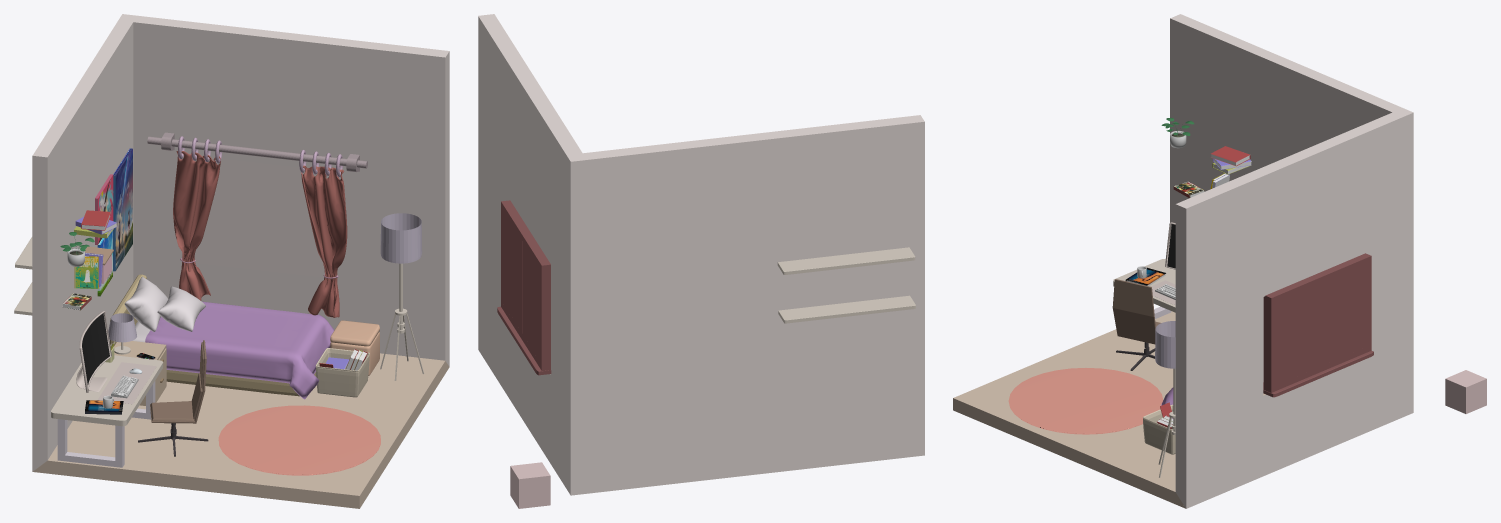
Rendered from room.glb.
3 renders of one model, left to right at view 1: azimuth 30°, elevation 25°; view 2: azimuth 150°, elevation 25°; view 3: azimuth 270°, elevation 25°, orthographic. The views are drawn at different scales.
Visible parts, largest first — view 1: Wall, Bed, Fake _wall, Carpet, Blinds, desk, Poster3, lamp1, Chair, Computer, Box1, Box2 (+12 smaller); view 2: Wall, Frame, Fake Frame, Shelf1, Shelf2, Cube; view 3: Wall, Carpet, Fake Frame, Frame, Chair, Cube, lamp1, Box1, desk.
Boxes of the visible parts, bbox=[...] form: Wall: bbox=[32, 14, 449, 508]; Bed: bbox=[110, 274, 334, 399]; Fake _wall: bbox=[182, 156, 329, 277]; Carpet: bbox=[218, 405, 380, 475]; Blinds: bbox=[173, 151, 347, 317]; desk: bbox=[51, 355, 163, 467]; Poster3: bbox=[113, 148, 132, 271]; lamp1: bbox=[380, 213, 422, 263]; Chair: bbox=[138, 340, 208, 456]; Computer: bbox=[76, 311, 111, 392]; Box1: bbox=[315, 348, 369, 397]; Box2: bbox=[330, 320, 379, 375]; Wall: bbox=[478, 14, 924, 495]; Frame: bbox=[497, 200, 551, 375]; Fake Frame: bbox=[503, 211, 539, 359]; Shelf1: bbox=[778, 295, 915, 323]; Shelf2: bbox=[777, 247, 915, 274]; Cube: bbox=[510, 462, 550, 508]; Wall: bbox=[953, 14, 1413, 508]; Carpet: bbox=[1008, 368, 1163, 434]; Fake Frame: bbox=[1277, 264, 1365, 384]; Frame: bbox=[1263, 253, 1373, 397]; Chair: bbox=[1112, 279, 1161, 370]; Cube: bbox=[1445, 370, 1486, 413]; lamp1: bbox=[1155, 321, 1175, 368]; Box1: bbox=[1143, 404, 1175, 454]; desk: bbox=[1113, 259, 1175, 318].
Size of the model in its own units: 31.59 by 22.46 by 36.19.
Materials: 68 (9 with a texture image).
